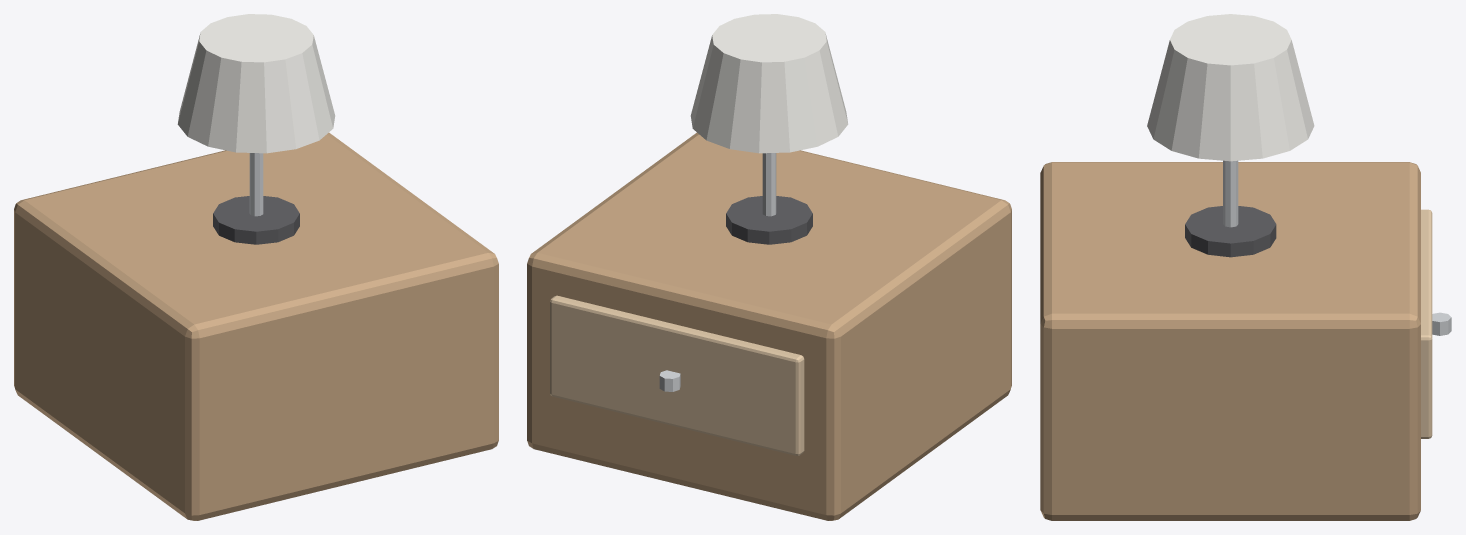
Rendered from nightstand.glb.
3 renders of one model, left to right at view 1: azimuth 30°, elevation 25°; view 2: azimuth 150°, elevation 25°; view 3: azimuth 270°, elevation 25°, orthographic. The views are drawn at different scales.
Visible parts, largest first — view 1: Nightstand; view 2: Nightstand; view 3: Nightstand.
Part boxes in pixels (x1,y1,x2,y2): Nightstand: [14, 14, 498, 520]; Nightstand: [527, 14, 1011, 520]; Nightstand: [1040, 14, 1451, 520].
Size of the model in its own units: 1 by 1.17 by 1.08.
